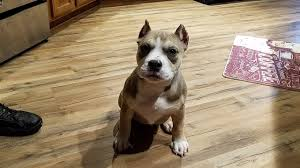dog_sitting: (112, 18, 192, 160)
